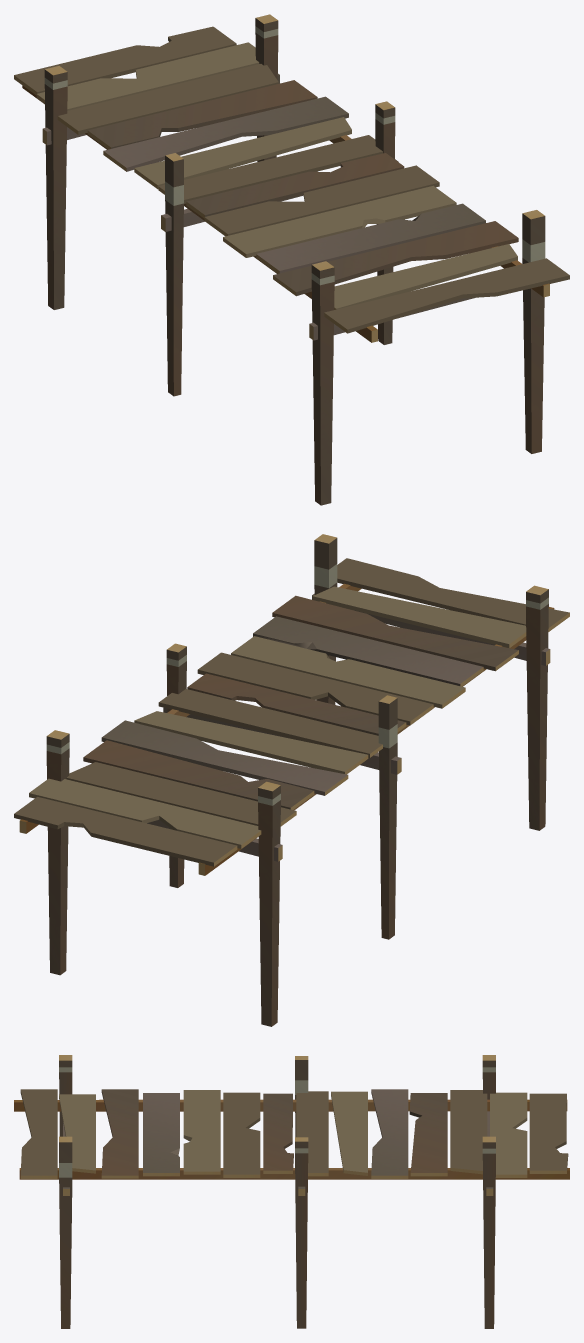
Rendered from Dock_1.fbx.
3 renders of one model, top to bottom at view 1: azimuth 30°, elevation 25°; view 2: azimuth 150°, elevation 25°; view 3: azimuth 270°, elevation 25°, orthographic. The views are drawn at different scales.
Parts seen in each view (by area): view 1: polySurface9892; view 2: polySurface9892; view 3: polySurface9892.
Boxes of the visible parts, x1,y1,x2,y2 form: polySurface9892: (14,14,569,505); polySurface9892: (14,534,569,1026); polySurface9892: (14,1055,569,1328).
Bounding box in the file's own units: 400 × 388 × 1042.
